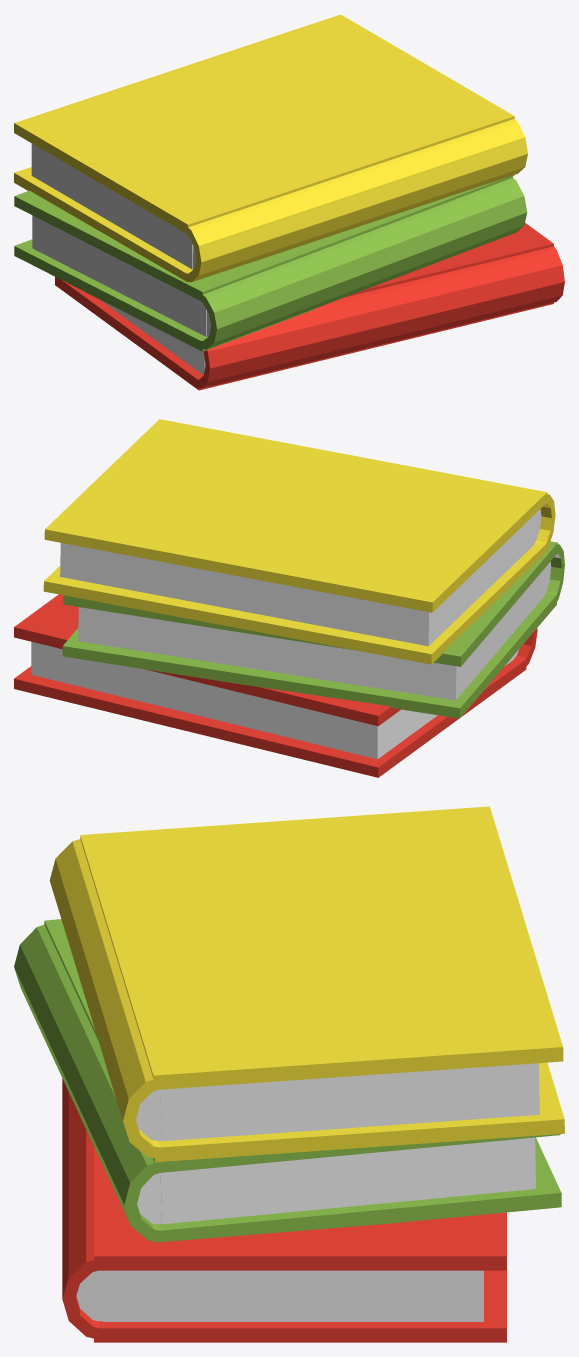
The model's file is book.fbx.
The picture shows the model from 3 angles, top to bottom: view 1: azimuth 30°, elevation 25°; view 2: azimuth 150°, elevation 25°; view 3: azimuth 270°, elevation 25°; orthographic projection. The views are drawn at different scales.
Parts seen in each view (by area): view 1: model; view 2: model; view 3: model.
Part boxes in pixels (bbox=[...]): model: bbox=[14, 14, 564, 390]; model: bbox=[14, 419, 564, 777]; model: bbox=[14, 806, 564, 1342].
Bounding box in the file's own units: 433 × 181 × 347.
